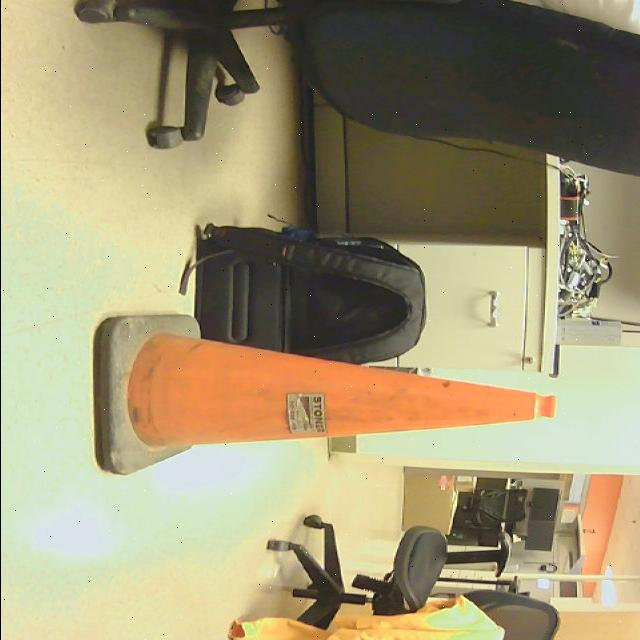traffic cone: (90, 315, 557, 477)
